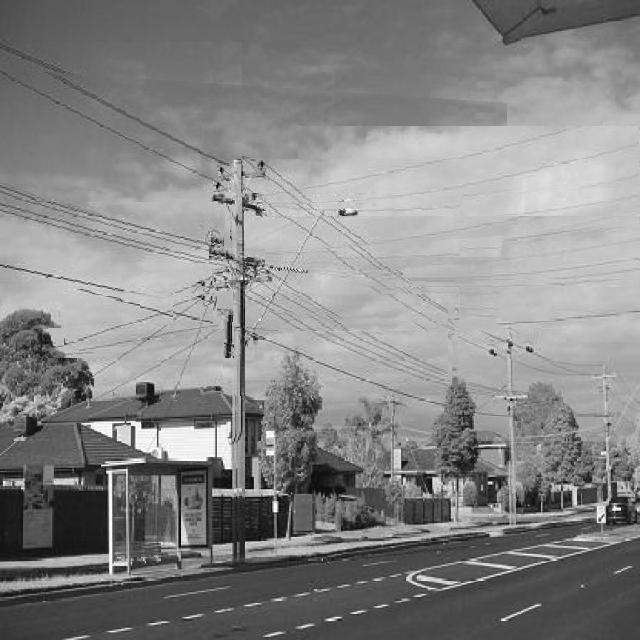crossarm: (209, 249, 265, 265), (215, 276, 269, 291), (213, 193, 260, 209), (218, 169, 266, 181), (495, 395, 529, 402)
pole: (232, 160, 245, 564), (507, 342, 516, 530)
wire: (0, 70, 447, 358), (244, 159, 460, 320), (243, 157, 439, 320), (0, 43, 242, 147), (245, 329, 508, 416), (300, 126, 605, 193), (268, 271, 459, 373), (246, 289, 444, 385), (245, 294, 448, 387), (0, 190, 230, 270), (259, 282, 440, 381), (0, 184, 214, 263), (260, 159, 599, 206), (0, 202, 224, 266), (1, 209, 220, 270), (0, 263, 233, 318), (242, 216, 559, 255), (245, 211, 333, 346), (94, 329, 223, 401), (95, 300, 204, 377), (64, 295, 217, 345), (403, 258, 639, 279), (173, 293, 214, 396), (78, 325, 218, 352), (409, 273, 639, 287), (513, 359, 594, 376), (245, 327, 287, 331)
